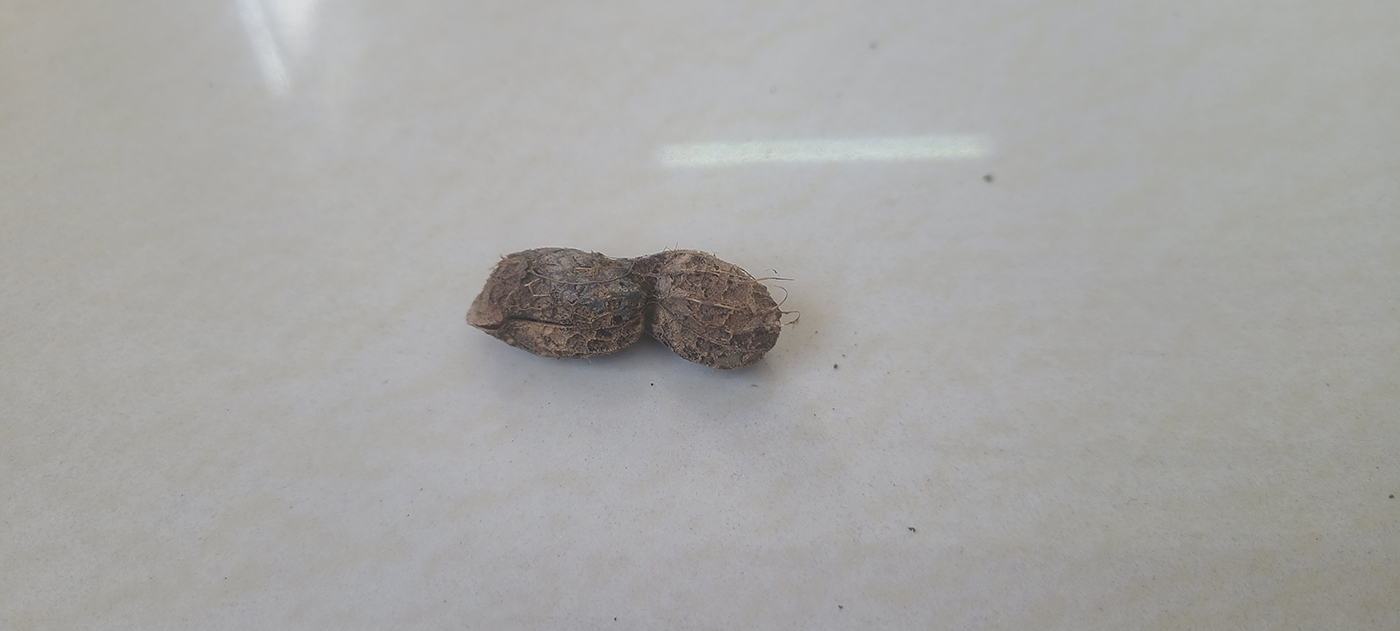l: (468, 247, 781, 370)
